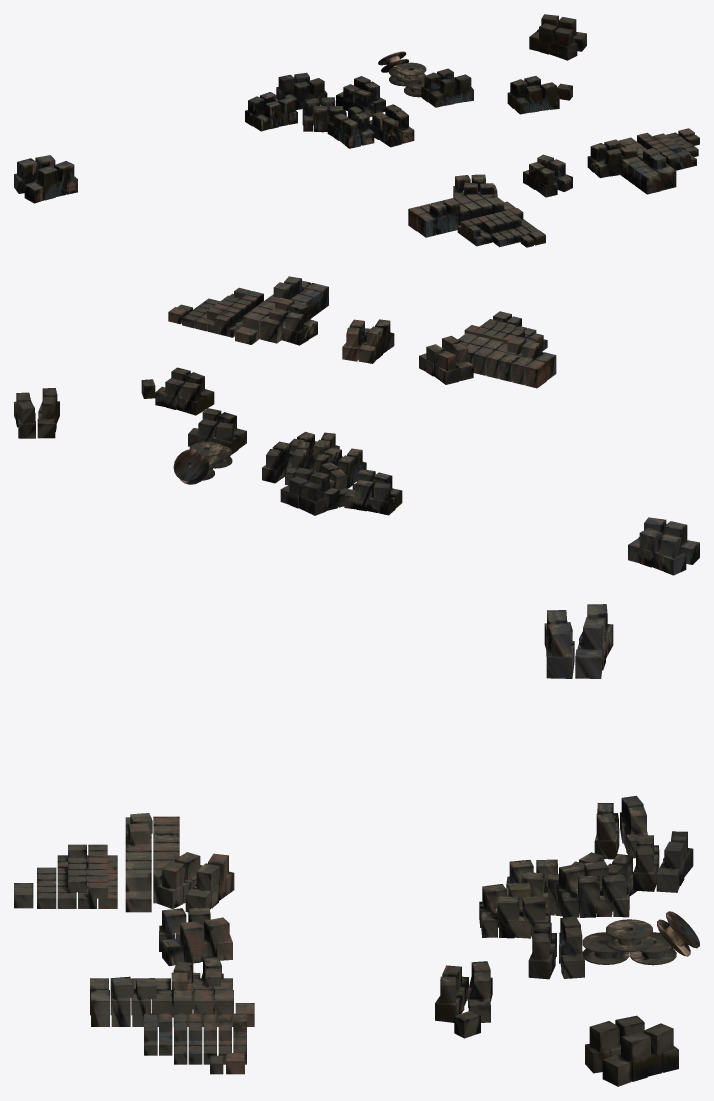
3 views of the same model, one above another, from view 1: azimuth 30°, elevation 25°; view 2: azimuth 150°, elevation 25°; view 3: azimuth 270°, elevation 25° (orthographic). The views are drawn at different scales.
Parts seen in each view (by area): view 1: 04; view 2: 04; view 3: 04.
Part boxes in pixels (<box>): 04: <box>14,14,699,247</box>; 04: <box>14,276,699,575</box>; 04: <box>14,604,699,1086</box>.
Bounding box in the file's own units: 35.18 × 2.17 × 22.96.
